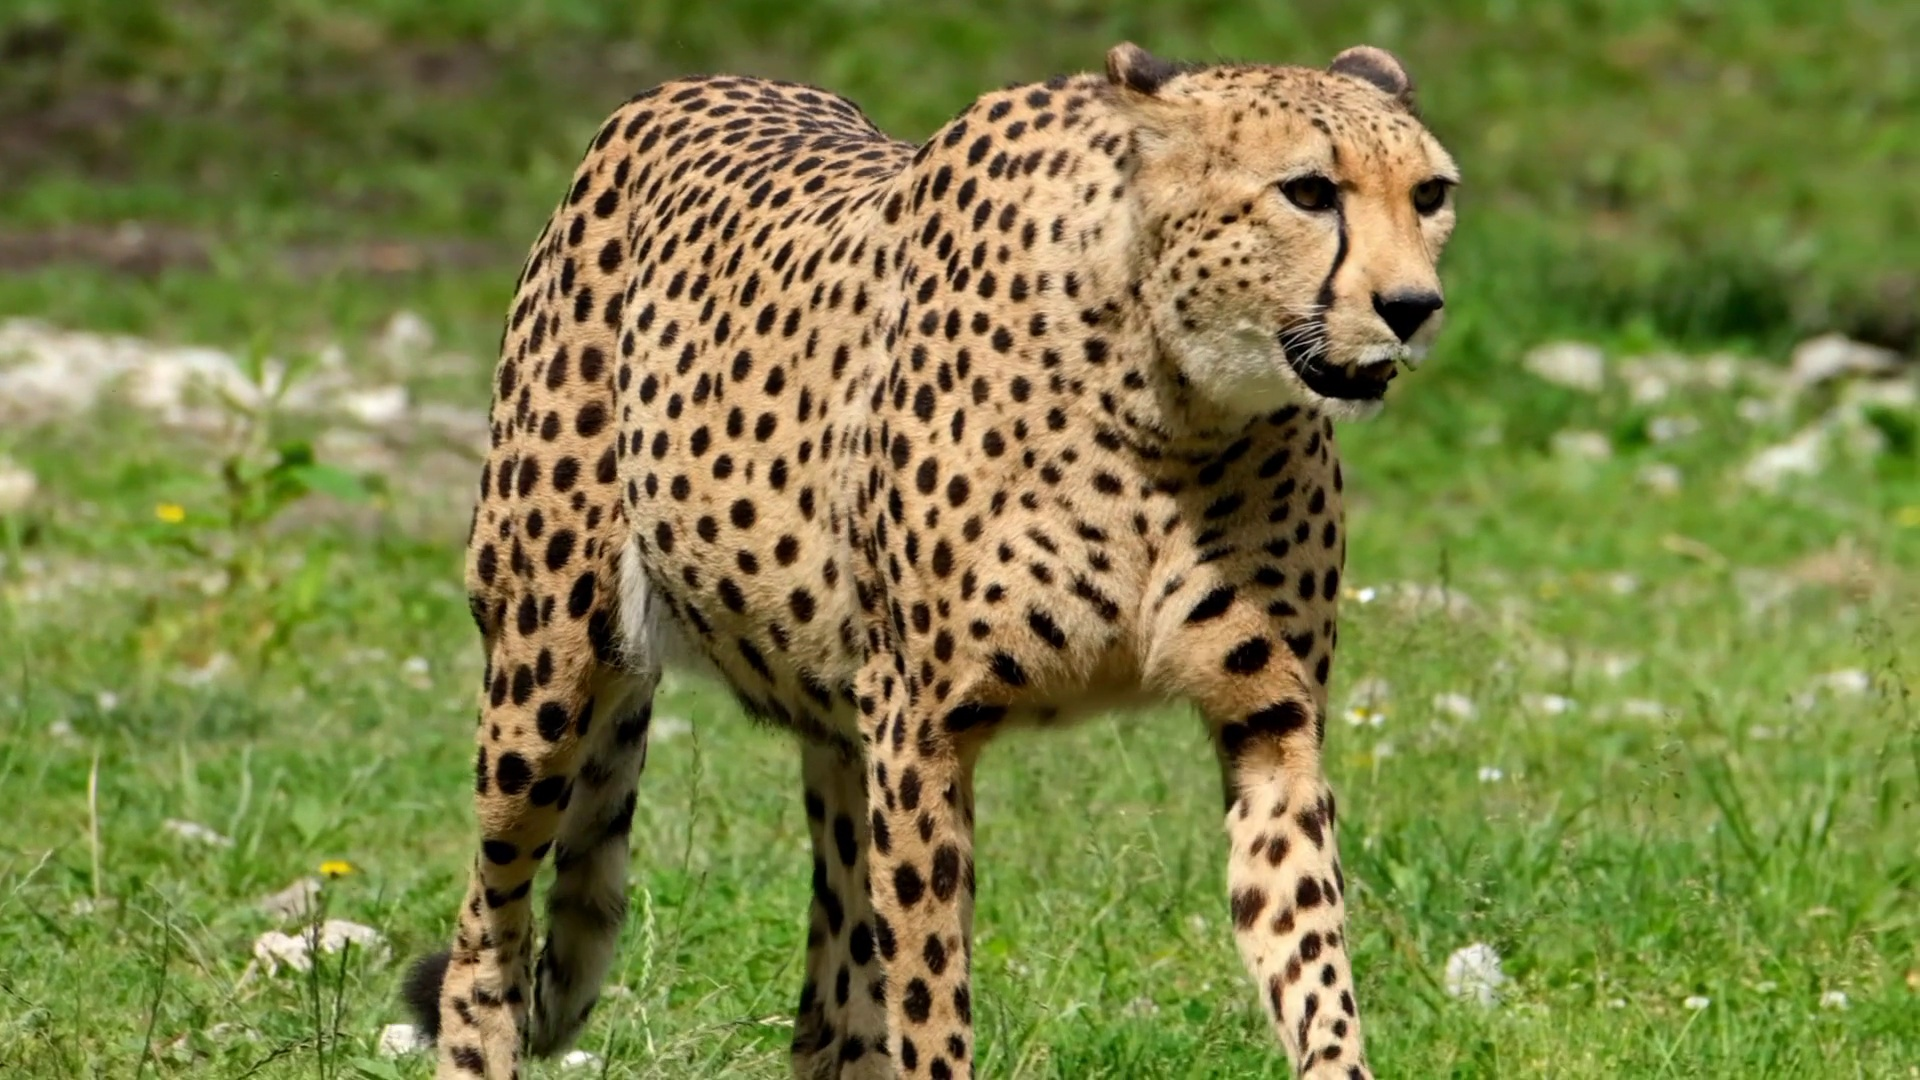Cheetah: (401, 38, 1465, 1080)
